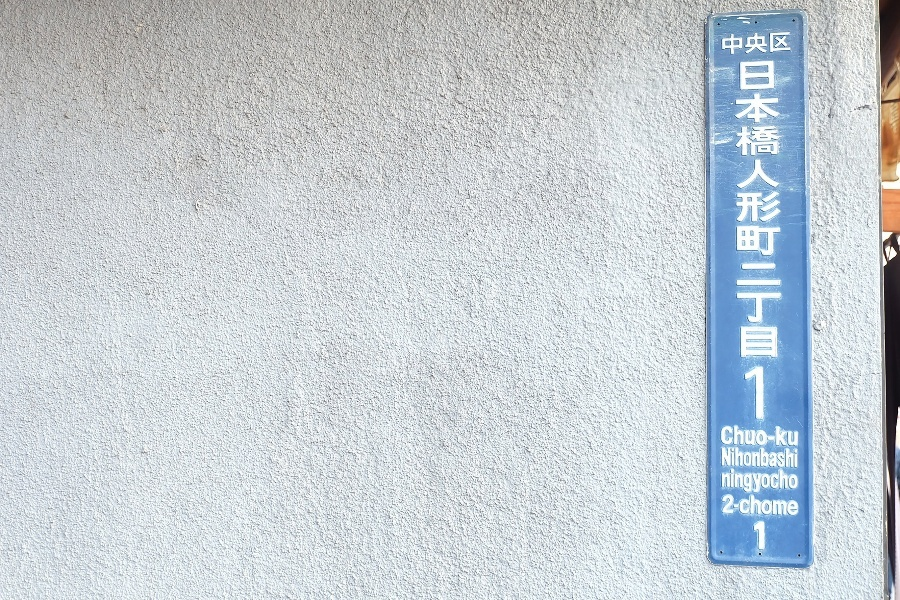text: (769, 59, 785, 423), (737, 59, 752, 423), (753, 59, 768, 423), (731, 59, 736, 423), (753, 520, 767, 552), (721, 468, 736, 494), (737, 468, 752, 494), (753, 468, 768, 494), (769, 468, 784, 494), (721, 32, 736, 56), (737, 32, 752, 56), (753, 32, 768, 56), (769, 32, 784, 56), (721, 446, 736, 469), (737, 446, 752, 469), (753, 446, 768, 469), (769, 446, 784, 469), (721, 494, 736, 517), (737, 494, 752, 517), (753, 494, 768, 517), (769, 494, 784, 517), (785, 468, 798, 494), (785, 494, 799, 517), (721, 426, 736, 447), (737, 426, 752, 447), (753, 426, 768, 447), (769, 426, 784, 447), (785, 446, 798, 469), (785, 426, 798, 447), (785, 32, 792, 56), (751, 520, 752, 552)
